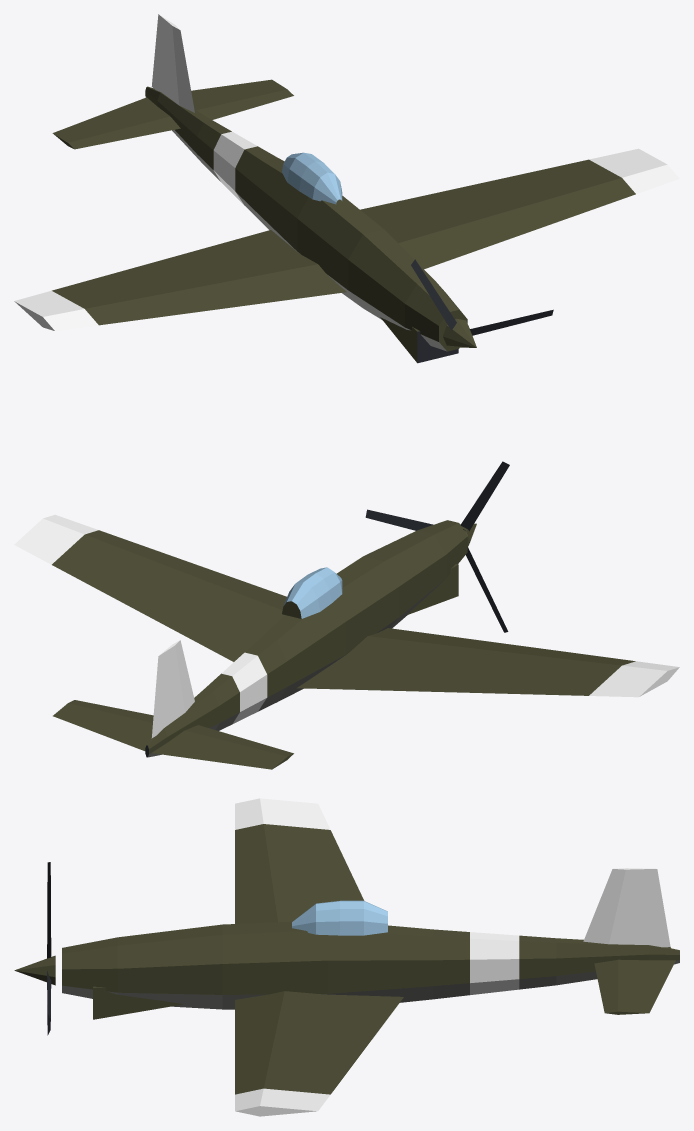
The picture shows the model from 3 angles, top to bottom: view 1: azimuth 30°, elevation 25°; view 2: azimuth 150°, elevation 25°; view 3: azimuth 270°, elevation 25°; orthographic projection.
Visible parts, largest first — view 1: body, prop; view 2: body, prop; view 3: body, prop.
Part boxes in pixels (<box>): body: <box>14,14,679,363</box>; prop: <box>411,259,553,347</box>; body: <box>14,514,679,769</box>; prop: <box>365,461,509,632</box>; body: <box>62,798,679,1116</box>; prop: <box>14,862,55,1035</box>.
Bounding box in the file's own units: 11.38 × 3.26 × 10.41.
